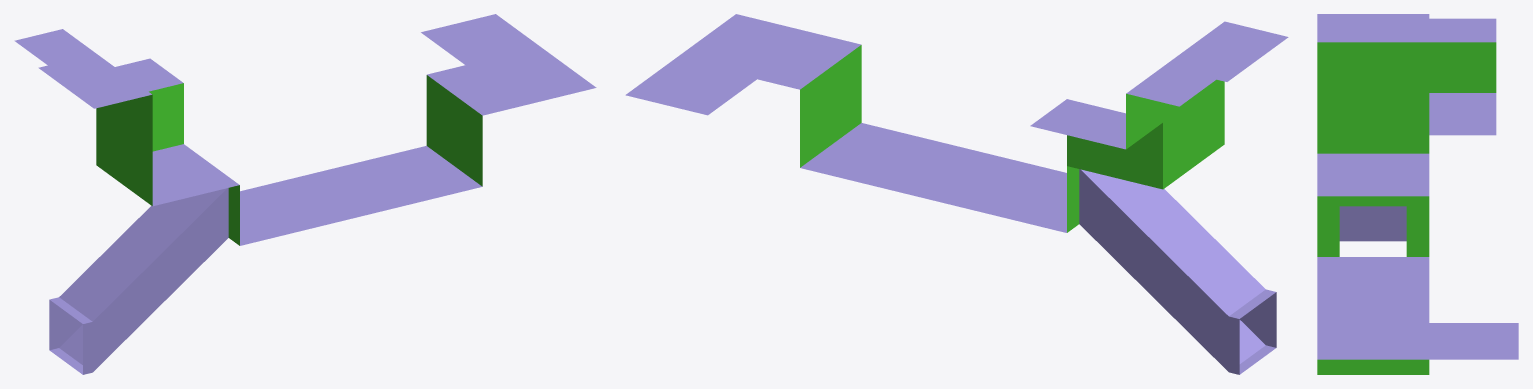
File: 02beginfloor.fbx
The picture shows the model from 3 angles, left to right: view 1: azimuth 30°, elevation 25°; view 2: azimuth 150°, elevation 25°; view 3: azimuth 270°, elevation 25°; orthographic projection. The views are drawn at different scales.
Parts seen in each view (by area): view 1: PolyShape__7_.007, PolyShape__7_.002, PolyShape__7_.001, PolyShape__7_.005, PolyShape__7_.003, PolyShape__7_.004; view 2: PolyShape__7_.007, PolyShape__7_.002, PolyShape__7_.001, PolyShape__7_.005, PolyShape__7_.003, PolyShape__7_.004; view 3: PolyShape__7_.007, PolyShape__7_.001, PolyShape__7_.004, PolyShape__7_.002, PolyShape__7_.005.
Boxes of the visible parts, box(x1,y1,x2,y2) form: PolyShape__7_.007: box(14, 14, 596, 245); PolyShape__7_.002: box(49, 188, 228, 374); PolyShape__7_.001: box(96, 94, 152, 205); PolyShape__7_.005: box(426, 75, 482, 186); PolyShape__7_.003: box(149, 83, 183, 151); PolyShape__7_.004: box(228, 185, 239, 245); PolyShape__7_.007: box(625, 14, 1288, 232); PolyShape__7_.002: box(1079, 169, 1276, 374); PolyShape__7_.001: box(1126, 79, 1224, 189); PolyShape__7_.005: box(800, 45, 861, 167); PolyShape__7_.003: box(1067, 123, 1162, 189); PolyShape__7_.004: box(1067, 166, 1079, 232); PolyShape__7_.007: box(1317, 14, 1518, 359); PolyShape__7_.001: box(1317, 42, 1496, 153); PolyShape__7_.004: box(1317, 196, 1429, 256); PolyShape__7_.002: box(1339, 206, 1406, 241); PolyShape__7_.005: box(1317, 359, 1429, 374).
Bounding box in the file's own units: 51.75 × 27 × 18.
